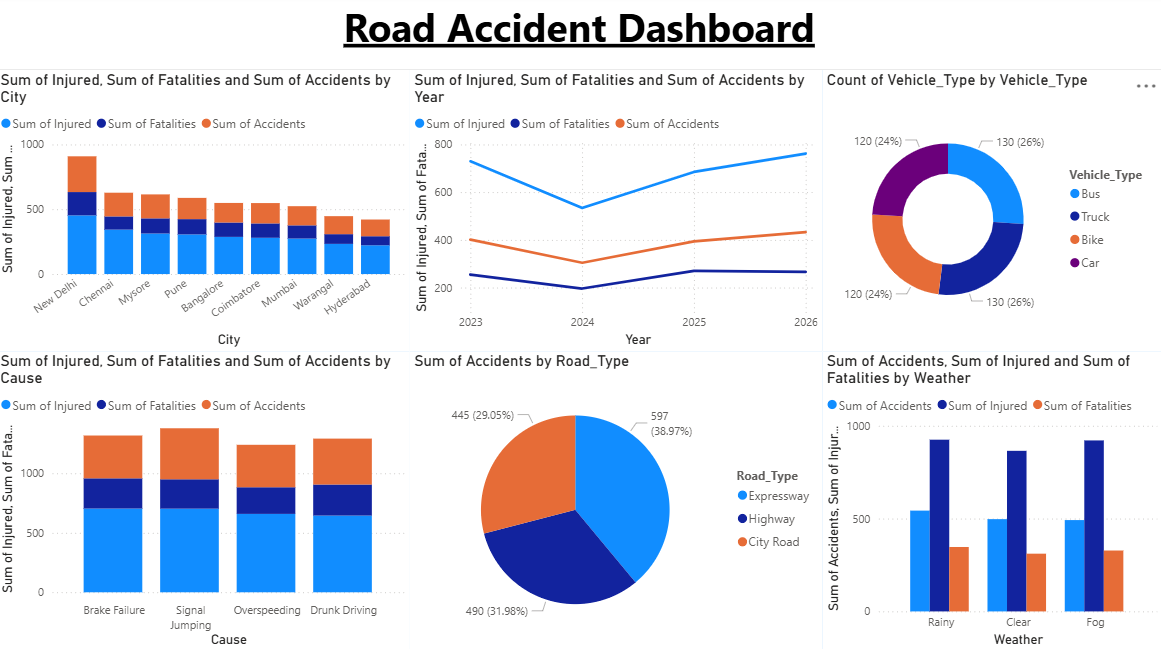

What the dashboard file says about the page in this screenshot:
{"tool":"powerbi","page":{"name":"Page 1","canvas":[1280,720],"ordinal":0},"visuals":[{"type":"columnChart","fields":{"Category":["road_accident_data_2023_2026_500rows.City"],"Y":["Sum(road_accident_data_2023_2026_500rows.Injured)","Sum(road_accident_data_2023_2026_500rows.Fatalities)","Sum(road_accident_data_2023_2026_500rows.Accidents)"]},"box":[0,82.3,454.2,308.7],"z":0},{"type":"lineChart","fields":{"Category":["road_accident_data_2023_2026_500rows.Year"],"Y":["Sum(road_accident_data_2023_2026_500rows.Injured)","Sum(road_accident_data_2023_2026_500rows.Fatalities)","Sum(road_accident_data_2023_2026_500rows.Accidents)"]},"box":[454.2,82.3,452.8,308.7],"z":2000},{"type":"donutChart","fields":{"Category":["road_accident_data_2023_2026_500rows.Vehicle_Type"],"Y":["CountNonNull(road_accident_data_2023_2026_500rows.Vehicle_Type)"]},"box":[907,82.3,373.2,308.7],"z":3000},{"type":"columnChart","fields":{"Category":["road_accident_data_2023_2026_500rows.Cause"],"Y":["Sum(road_accident_data_2023_2026_500rows.Injured)","Sum(road_accident_data_2023_2026_500rows.Fatalities)","Sum(road_accident_data_2023_2026_500rows.Accidents)"]},"box":[0,391.1,454.2,329.3],"z":4000},{"type":"clusteredColumnChart","fields":{"Category":["road_accident_data_2023_2026_500rows.Weather"],"Y":["Sum(road_accident_data_2023_2026_500rows.Accidents)","Sum(road_accident_data_2023_2026_500rows.Injured)","Sum(road_accident_data_2023_2026_500rows.Fatalities)"]},"box":[907,391.1,373.2,329.3],"z":5000},{"type":"pieChart","fields":{"Category":["road_accident_data_2023_2026_500rows.Road_Type"],"Y":["Sum(road_accident_data_2023_2026_500rows.Accidents)"]},"box":[454.2,391.1,452.8,329.3],"z":6000},{"type":"textbox","box":[0,0,1280.3,82.3],"z":6001}]}

Visuals, with their boxes in screenshot pixels (x1, y1, x2, y2), scaled from the page's 1280x720 canvas onto the 1161x649 screenshot:
columnChart - road_accident_data_2023_2026_500rows.City x Sum(road_accident_data_2023_2026_500rows.Injured): 0:74:412:352
lineChart - road_accident_data_2023_2026_500rows.Year x Sum(road_accident_data_2023_2026_500rows.Injured): 412:74:823:352
donutChart - road_accident_data_2023_2026_500rows.Vehicle_Type x CountNonNull(road_accident_data_2023_2026_500rows.Vehicle_Type): 823:74:1160:352
columnChart - road_accident_data_2023_2026_500rows.Cause x Sum(road_accident_data_2023_2026_500rows.Injured): 0:353:412:648
clusteredColumnChart - road_accident_data_2023_2026_500rows.Weather x Sum(road_accident_data_2023_2026_500rows.Accidents): 823:353:1160:648
pieChart - road_accident_data_2023_2026_500rows.Road_Type x Sum(road_accident_data_2023_2026_500rows.Accidents): 412:353:823:648
textbox: 0:0:1160:74
